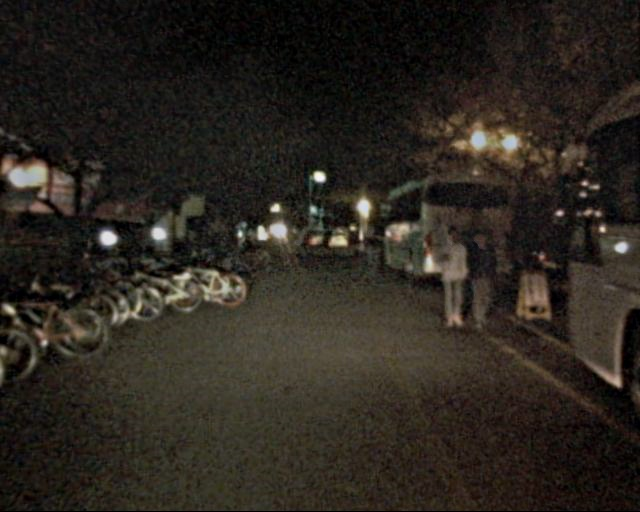person: (428, 228, 470, 331), (459, 228, 498, 324), (358, 225, 382, 283), (245, 226, 260, 263)
